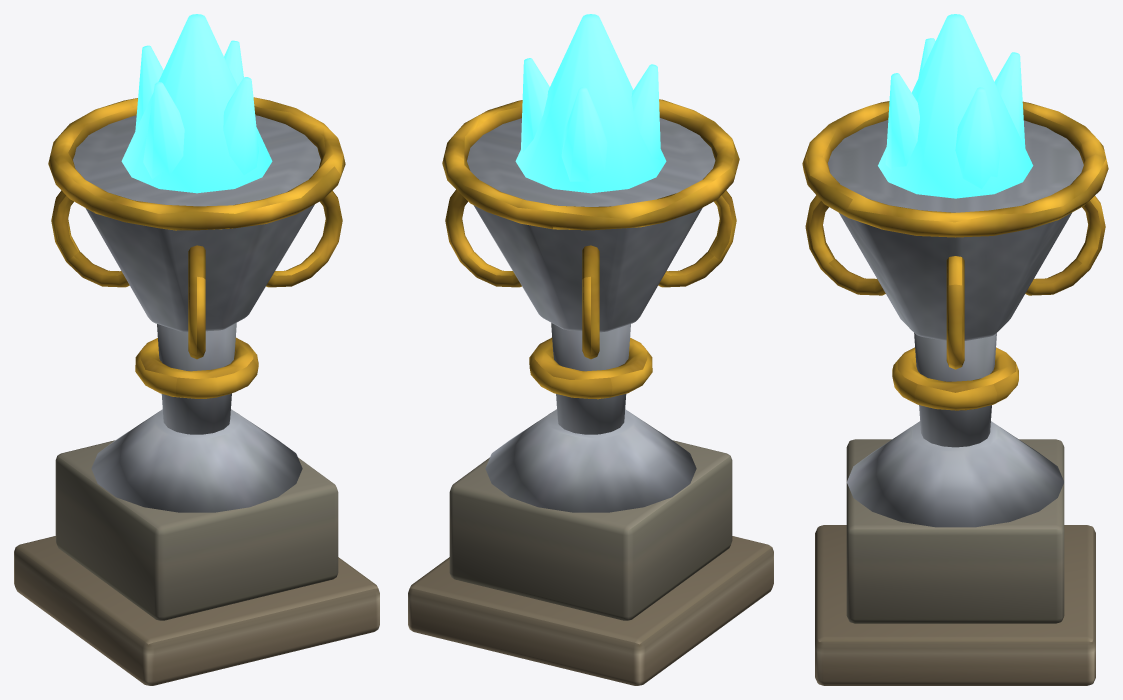
File: g_prop_triwizard.glb
The picture shows the model from 3 angles, left to right: view 1: azimuth 30°, elevation 25°; view 2: azimuth 150°, elevation 25°; view 3: azimuth 270°, elevation 25°; orthographic projection. The views are drawn at different scales.
Visible parts, largest first — view 1: TriPlinth2, TriPlinth1, TriCup, TriFoot, TriRimGold, TriFireCore, TriStem, TriNode, TriFireTongue_2, TriFireTongue_3, TriHandle_1, TriHandle_0 (+3 smaller); view 2: TriPlinth2, TriPlinth1, TriCup, TriFoot, TriFireCore, TriRimGold, TriStem, TriNode, TriFireTongue_1, TriHandle_2, TriHandle_0, TriHandle_1 (+2 smaller); view 3: TriPlinth2, TriPlinth1, TriCup, TriFoot, TriRimGold, TriFireCore, TriStem, TriNode, TriFireTongue_0, TriFireTongue_3, TriHandle_1, TriHandle_2 (+2 smaller).
Boxes of the visible parts, <box> form: TriPlinth2: <box>55,440,338,620</box>; TriPlinth1: <box>14,536,379,685</box>; TriCup: <box>73,115,320,332</box>; TriFoot: <box>91,409,302,512</box>; TriRimGold: <box>48,97,345,230</box>; TriFireCore: <box>121,14,272,193</box>; TriStem: <box>157,323,236,434</box>; TriNode: <box>135,337,258,398</box>; TriFireTongue_2: <box>143,82,184,179</box>; TriFireTongue_3: <box>223,77,258,174</box>; TriHandle_1: <box>51,190,129,287</box>; TriHandle_0: <box>266,190,342,287</box>; TriPlinth2: <box>449,440,732,620</box>; TriPlinth1: <box>408,536,773,685</box>; TriCup: <box>467,118,715,332</box>; TriFoot: <box>485,409,696,512</box>; TriFireCore: <box>515,14,666,193</box>; TriRimGold: <box>442,99,739,230</box>; TriStem: <box>551,323,630,434</box>; TriNode: <box>529,337,652,399</box>; TriFireTongue_1: <box>561,87,607,181</box>; TriHandle_2: <box>658,190,736,287</box>; TriHandle_0: <box>445,189,521,287</box>; TriHandle_1: <box>582,245,599,359</box>; TriPlinth2: <box>846,439,1064,623</box>; TriPlinth1: <box>815,525,1095,685</box>; TriCup: <box>827,120,1083,340</box>; TriFoot: <box>847,421,1064,527</box>; TriRimGold: <box>802,101,1108,237</box>; TriFireCore: <box>878,14,1033,198</box>; TriStem: <box>914,333,996,447</box>; TriNode: <box>892,347,1018,410</box>; TriFireTongue_0: <box>955,87,1000,188</box>; TriFireTongue_3: <box>885,73,919,169</box>; TriHandle_1: <box>1025,196,1105,295</box>; TriHandle_2: <box>805,195,885,295</box>.
Size of the model in its own units: 0.7176 by 1.49 by 0.6755.
5 materials, 4 textured.
